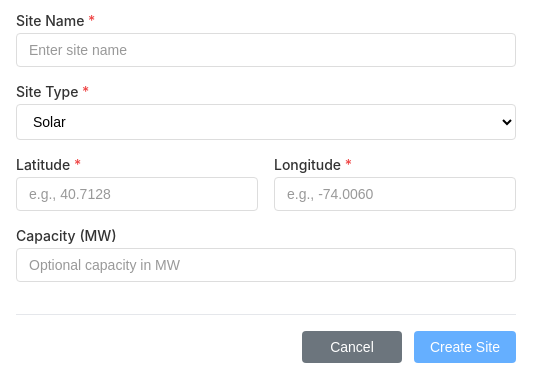
SiteForm › Form Submission › enables submit button when form is valid
# Fill out required fields
In the field labelled "Site Name *": (266, 50) [16,33,516,67], type "Valid Site"
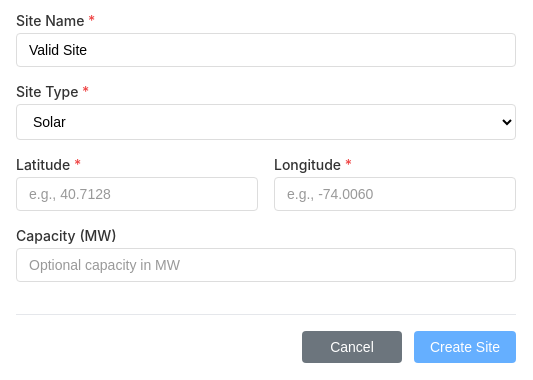
In the number field labelled "Latitude *": (137, 194) [16,177,258,211], type "40.7128"
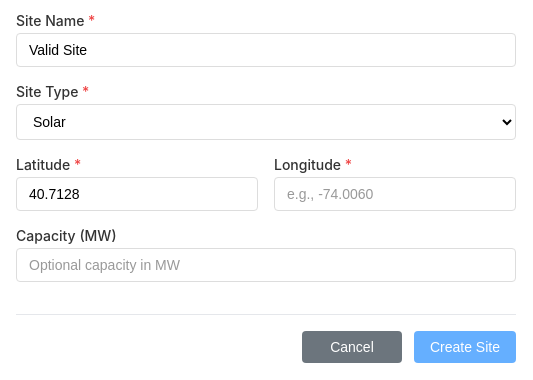
In the number field labelled "Longitude *": (395, 194) [274,177,516,211], type "-74.0060"
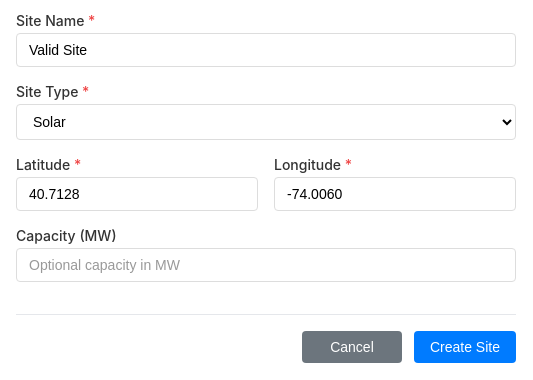
Now the button "Create Site" is enabled, box [414,331,516,363]
